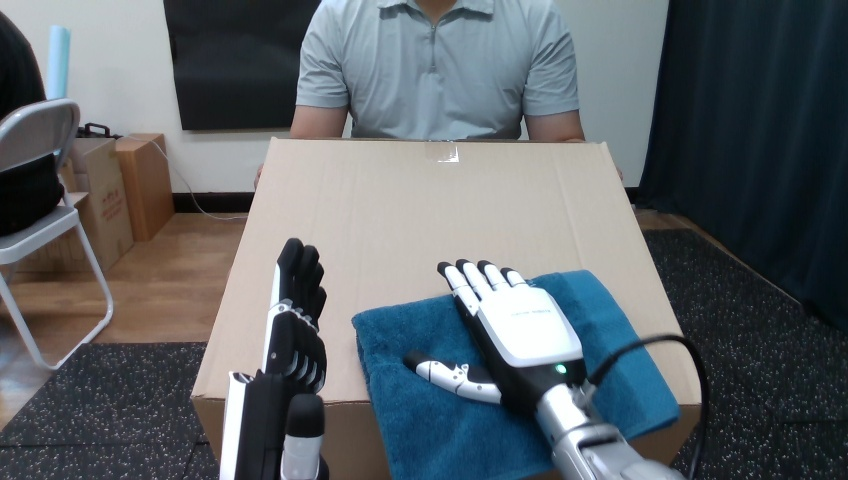left robot hand: (404, 259, 682, 479), (220, 238, 326, 479)
